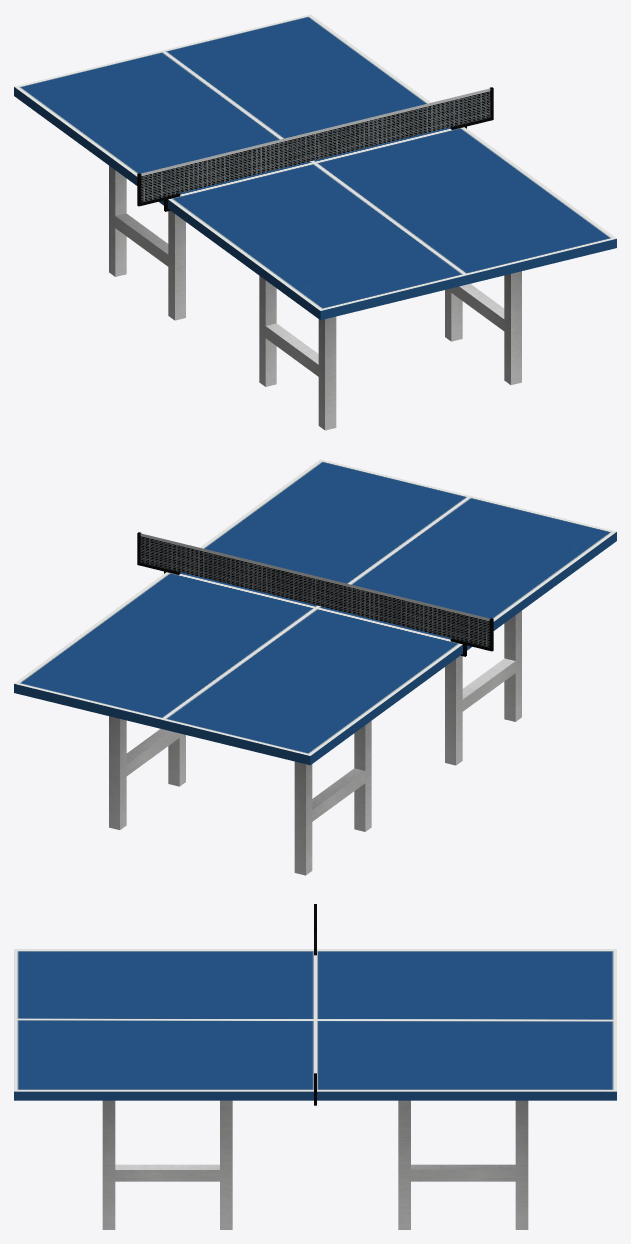
Rendered from PingPong.fbx.
The picture shows the model from 3 angles, top to bottom: view 1: azimuth 30°, elevation 25°; view 2: azimuth 150°, elevation 25°; view 3: azimuth 270°, elevation 25°; orthographic projection.
Parts seen in each view (by area): view 1: TableTenis; view 2: TableTenis; view 3: TableTenis.
Part boxes in pixels (x1,y1,x2,y2): TableTenis: (14,14,616,430); TableTenis: (14,459,616,875); TableTenis: (14,904,616,1229).
Size of the model in its own units: 1.77 by 0.9339 by 2.64.
Materials: 2 (2 with a texture image).
